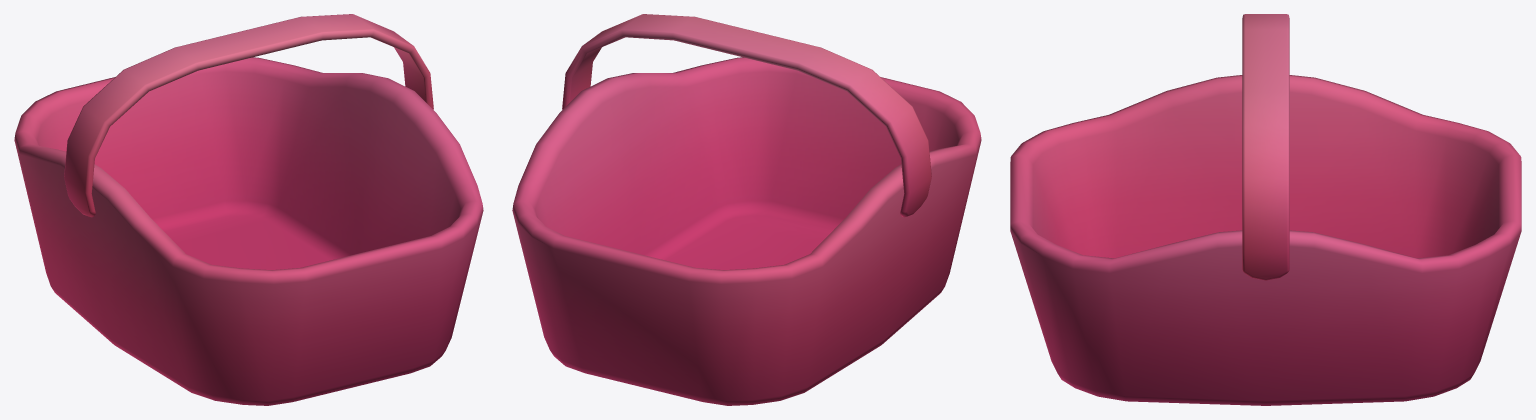
File: basket_red_smile.fbx
The picture shows the model from 3 angles, left to right: view 1: azimuth 30°, elevation 25°; view 2: azimuth 150°, elevation 25°; view 3: azimuth 270°, elevation 25°; orthographic projection.
Visible parts, largest first — view 1: basket_red_smile; view 2: basket_red_smile; view 3: basket_red_smile.
Boxes of the visible parts, box(x1,y1,x2,y2) form: basket_red_smile: box(14, 14, 483, 405); basket_red_smile: box(512, 14, 981, 405); basket_red_smile: box(1010, 14, 1521, 405).
Bounding box in the file's own units: 87.86 × 109 × 66.41.
Materials: 1 (1 with a texture image).
